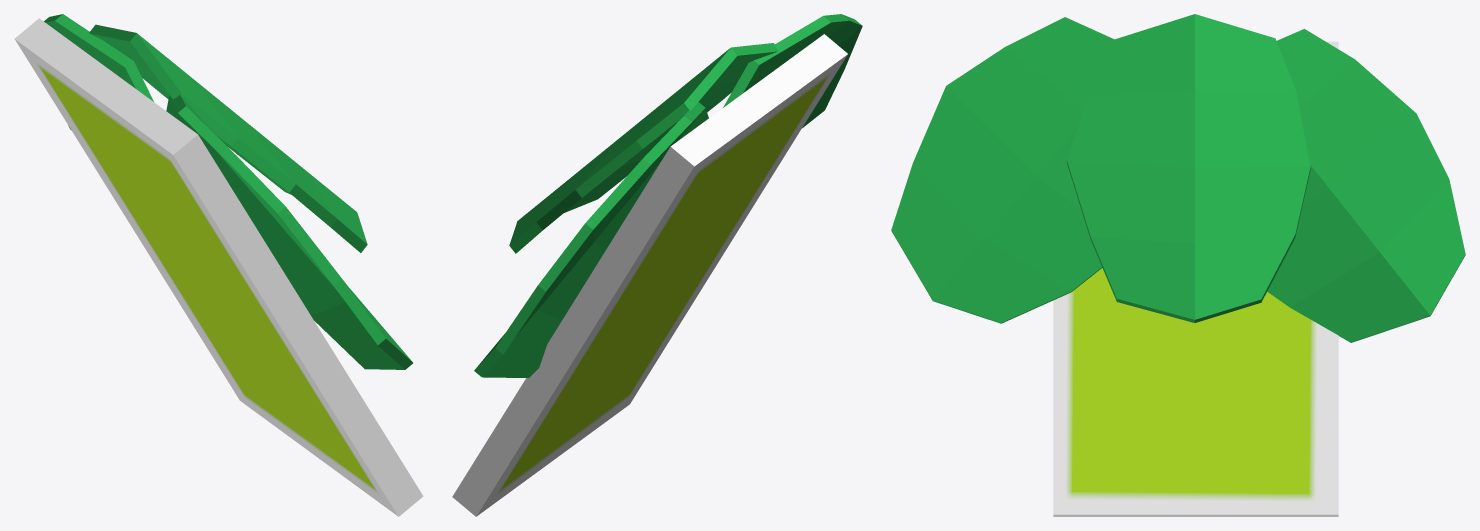
The model's file is harbAmulent.fbx.
3 renders of one model, left to right at view 1: azimuth 30°, elevation 25°; view 2: azimuth 150°, elevation 25°; view 3: azimuth 270°, elevation 25°, orthographic. The views are drawn at different scales.
Visible parts, largest first — view 1: 立方体.003; view 2: 立方体.003; view 3: 立方体.003.
Part boxes in pixels (bbox=[...]): 立方体.003: bbox=[14, 14, 423, 516]; 立方体.003: bbox=[452, 14, 862, 516]; 立方体.003: bbox=[891, 14, 1465, 516].
Size of the model in its own units: 12.6 by 21.58 by 26.57.
Materials: 1 (1 with a texture image).
